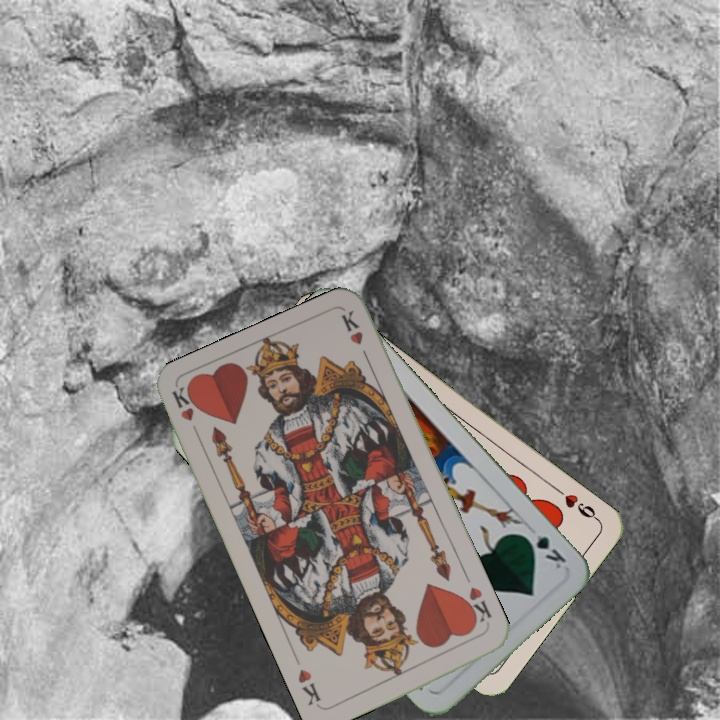GK: (518, 522, 569, 572)
H9: (551, 483, 602, 524)
HK: (167, 382, 203, 442), (459, 583, 494, 630)
